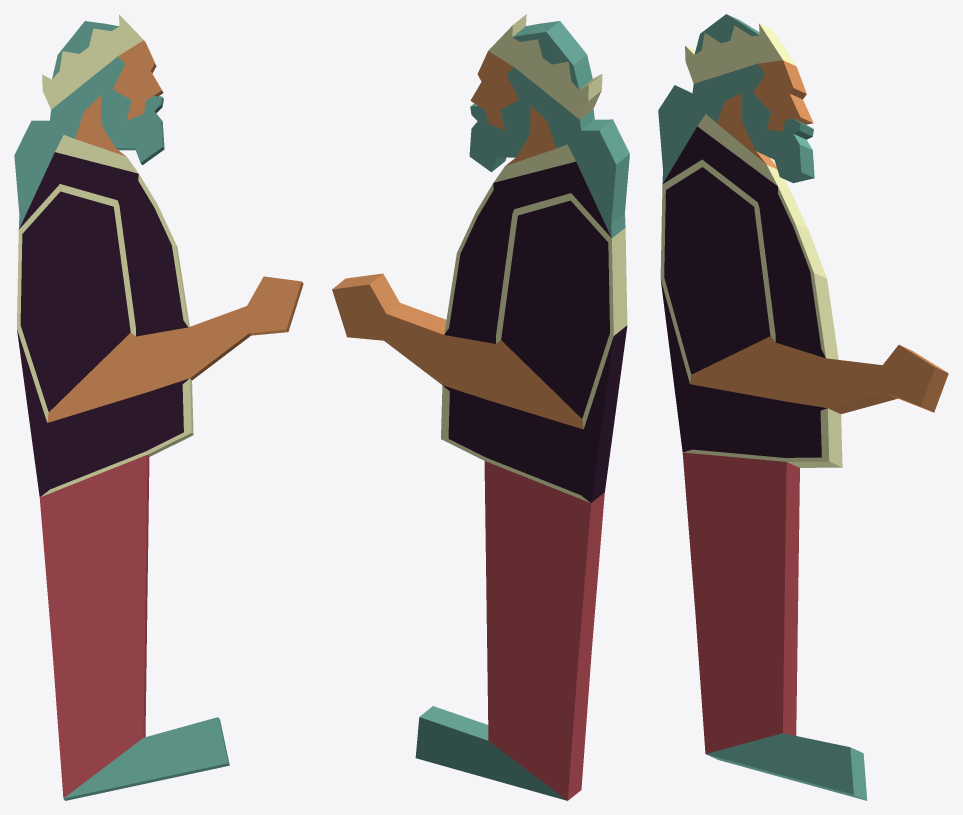
File: King.glb
The picture shows the model from 3 angles, left to right: view 1: azimuth 30°, elevation 25°; view 2: azimuth 150°, elevation 25°; view 3: azimuth 330°, elevation 25°; orthographic projection. The views are drawn at different scales.
Parts seen in each view (by area): view 1: Plane; view 2: Plane; view 3: Plane.
Part boxes in pixels (x1,y1,x2,y2): Plane: [14, 14, 303, 800]; Plane: [332, 14, 629, 800]; Plane: [658, 14, 948, 800].
Bounding box in the file's own units: 5.28 × 13.35 × 0.352.
